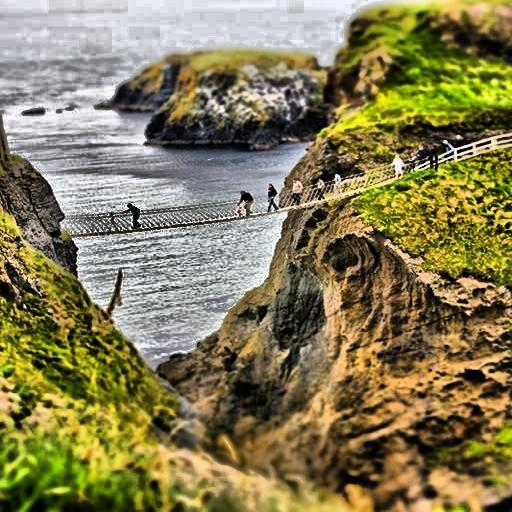person: (266, 170, 381, 212), (393, 135, 465, 178), (122, 204, 212, 230), (216, 191, 253, 221)
